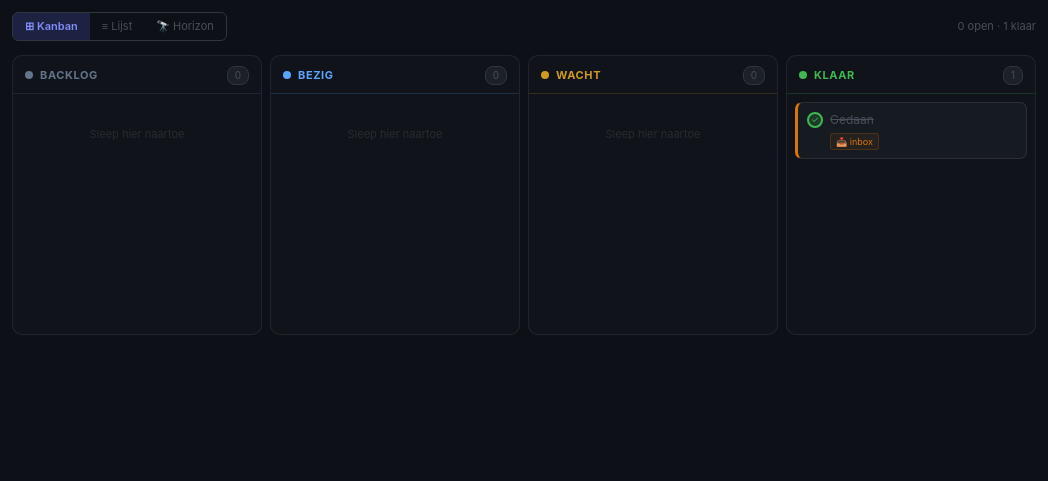
Test: TasksTab — horizon-weergave › laat een klaar-gezette taak niet meer zien — dit is een vooruitkijk-weergave, geen archief
Click the button "🔭 Horizon". click: (185, 26)
box: [144,13,226,40]
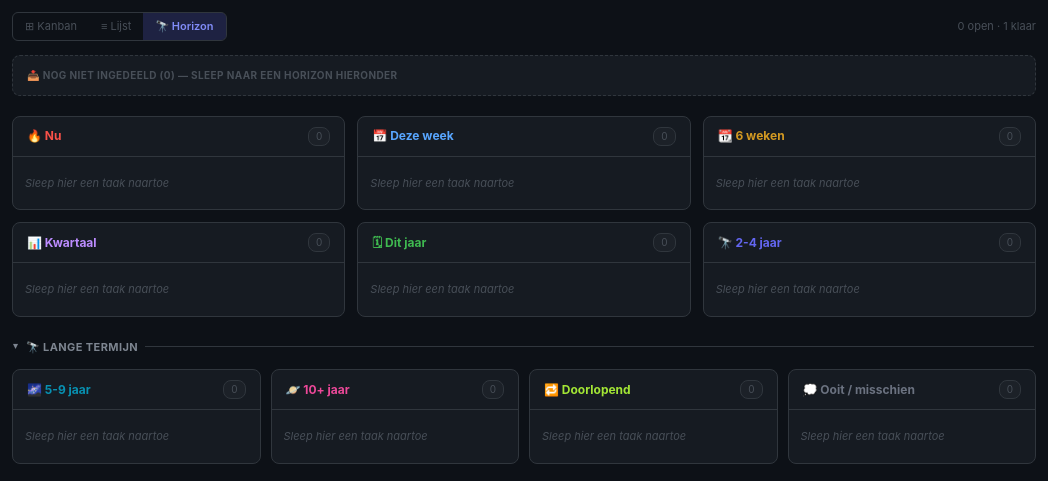
Check: the text "Gedaan" is gone
